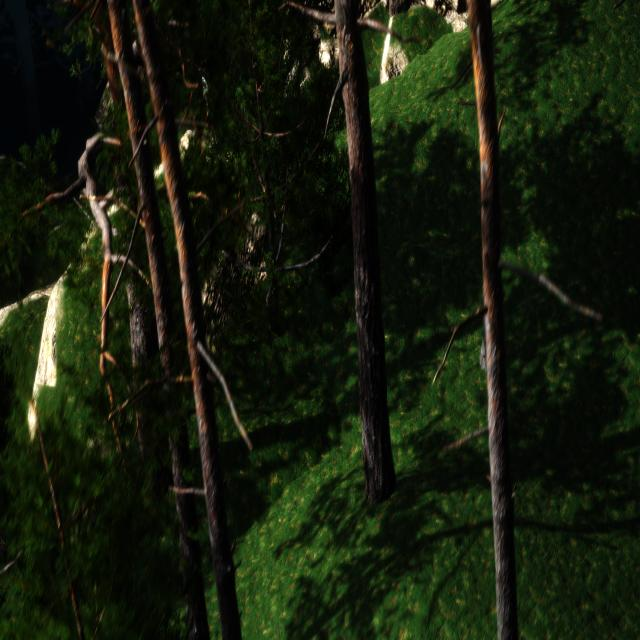Human: (202, 56, 211, 124)
